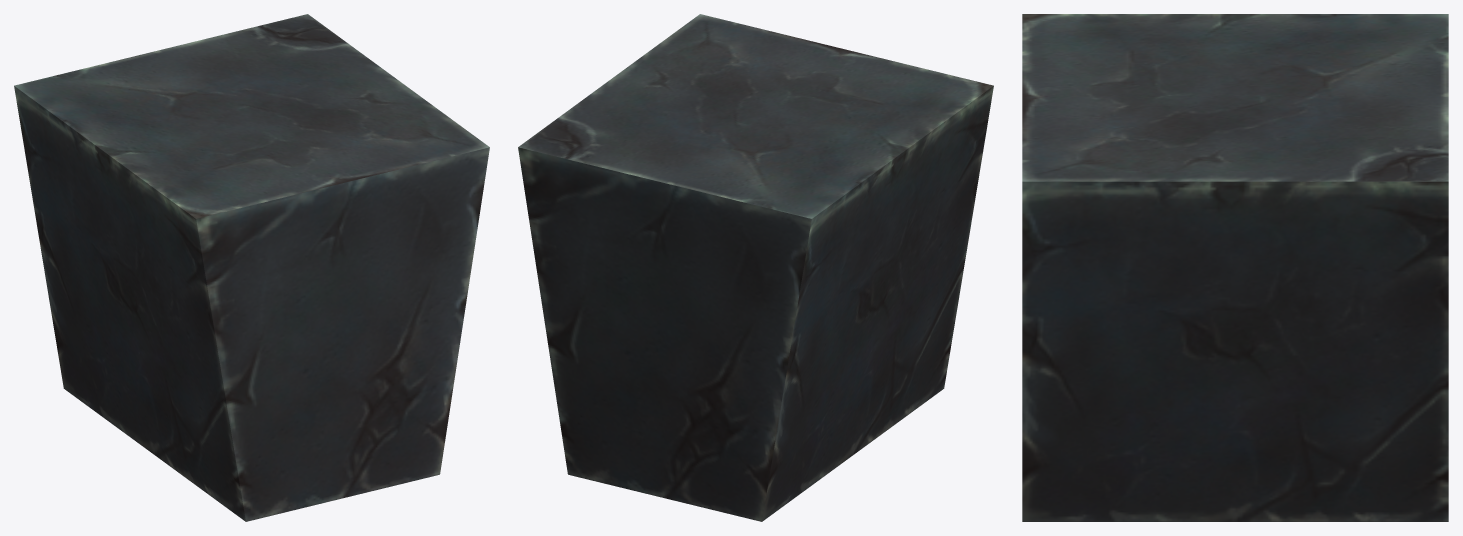
The model's file is B_shikuai013.fbx.
3 views of the same model, side by side, from view 1: azimuth 30°, elevation 25°; view 2: azimuth 150°, elevation 25°; view 3: azimuth 270°, elevation 25° (orthographic). The views are drawn at different scales.
Visible parts, largest first — view 1: B_shikuai013; view 2: B_shikuai013; view 3: B_shikuai013.
Part boxes in pixels (x1=…): B_shikuai013: x1=14, y1=14, x2=489, y2=521; B_shikuai013: x1=518, y1=14, x2=993, y2=521; B_shikuai013: x1=1022, y1=14, x2=1448, y2=521.
Size of the model in its own units: 114 by 117 by 122.
